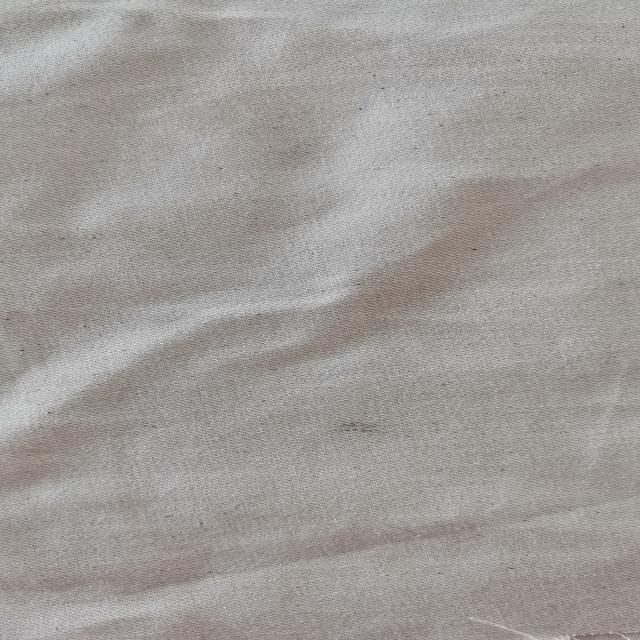taaaches: (323, 416, 393, 439)
